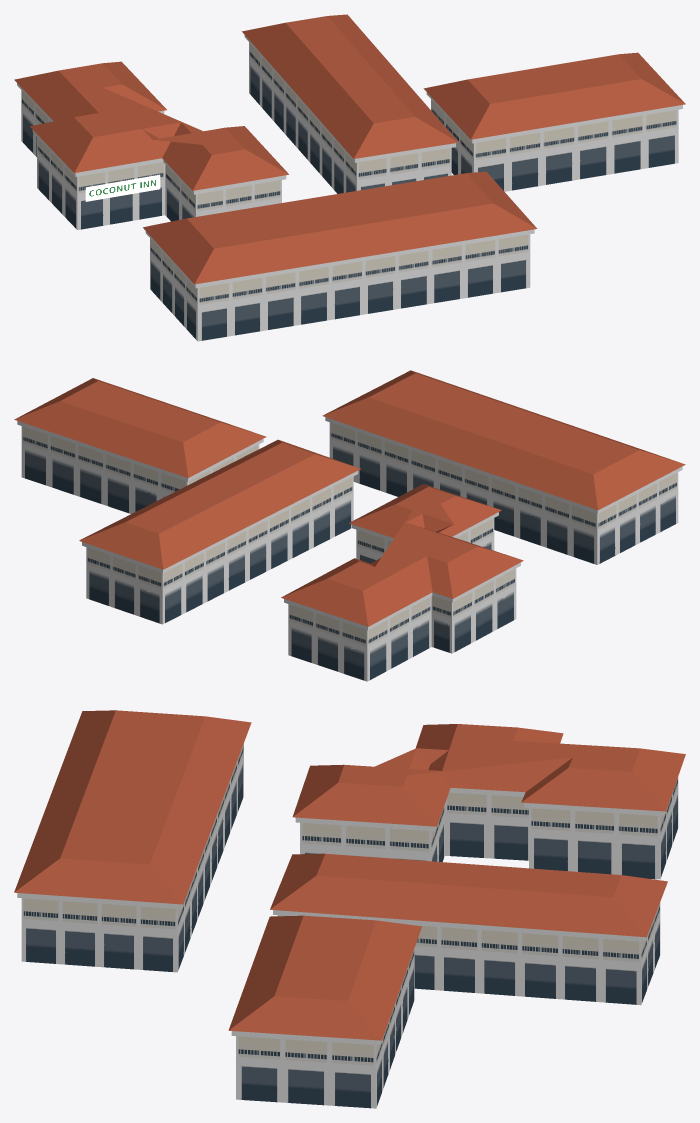
File: coconutinn.glb
The picture shows the model from 3 angles, top to bottom: view 1: azimuth 30°, elevation 25°; view 2: azimuth 150°, elevation 25°; view 3: azimuth 270°, elevation 25°; orthographic projection. The views are drawn at different scales.
Visible parts, largest first — view 1: coconutinn_lod0; view 2: coconutinn_lod0; view 3: coconutinn_lod0.
Boxes of the visible parts, x1,y1,x2,y2 form: coconutinn_lod0: (14, 14, 685, 341); coconutinn_lod0: (14, 370, 685, 681); coconutinn_lod0: (14, 710, 685, 1108).
Size of what is drawn, in the model's own units: 69.47 by 9 by 59.87.
Materials: 5 (3 with a texture image).
